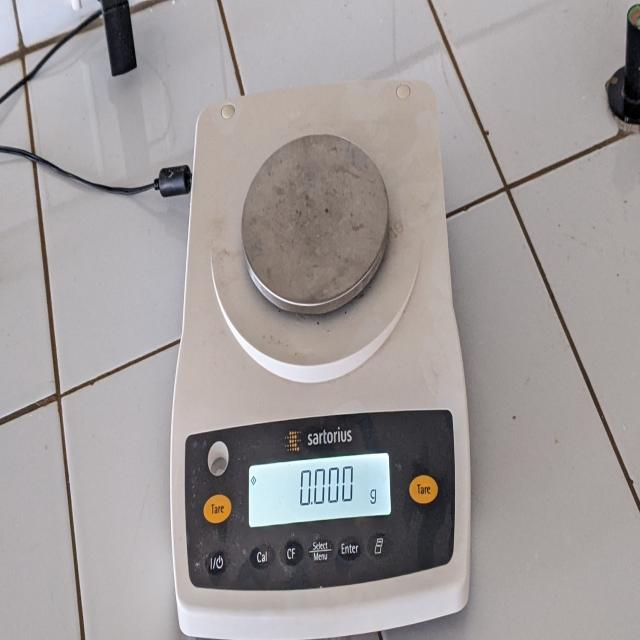Electronic Balance: (165, 101, 471, 635)
